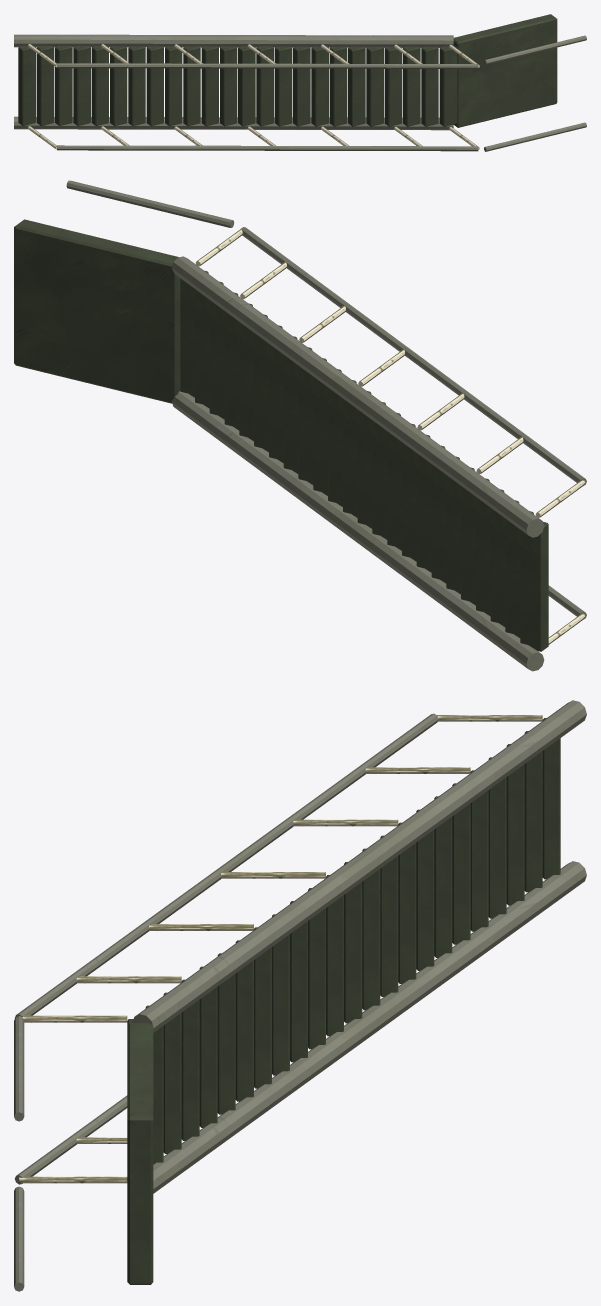
File: ECHO7_28_Escalera_Entre_Cubiertas.obj
3 views of the same model, one above another, from view 1: azimuth 30°, elevation 25°; view 2: azimuth 150°, elevation 25°; view 3: azimuth 270°, elevation 25° (orthographic). The views are drawn at different scales.
Visible parts, largest first — view 1: ECHO7_28_Escalera_Entre_Cubiertas__Descanso_superior_01, ECHO7_28_Escalera_Entre_Cubiertas__Zanca_escalera_02, ECHO7_28_Escalera_Entre_Cubiertas__Zanca_escalera_01, ECHO7_28_Escalera_Entre_Cubiertas__Pasamanos_escalera_02, ECHO7_28_Escalera_Entre_Cubiertas__Pasamanos_escalera_01, ECHO7_28_Escalera_Entre_Cubiertas__Peldano_15, ECHO7_28_Escalera_Entre_Cubiertas__Peldano_02, ECHO7_28_Escalera_Entre_Cubiertas__Peldano_01, ECHO7_28_Escalera_Entre_Cubiertas__Peldano_21, ECHO7_28_Escalera_Entre_Cubiertas__Peldano_19, ECHO7_28_Escalera_Entre_Cubiertas__Peldano_16, ECHO7_28_Escalera_Entre_Cubiertas__Peldano_12 (+19 smaller); view 2: ECHO7_28_Escalera_Entre_Cubiertas__Descanso_superior_01, ECHO7_28_Escalera_Entre_Cubiertas__Zanca_escalera_02, ECHO7_28_Escalera_Entre_Cubiertas__Zanca_escalera_01, ECHO7_28_Escalera_Entre_Cubiertas__Pasamanos_escalera_02, ECHO7_28_Escalera_Entre_Cubiertas__Peldano_01, ECHO7_28_Escalera_Entre_Cubiertas__Peldano_08, ECHO7_28_Escalera_Entre_Cubiertas__Peldano_03, ECHO7_28_Escalera_Entre_Cubiertas__Peldano_17, ECHO7_28_Escalera_Entre_Cubiertas__Peldano_11, ECHO7_28_Escalera_Entre_Cubiertas__Peldano_12, ECHO7_28_Escalera_Entre_Cubiertas__Peldano_16, ECHO7_28_Escalera_Entre_Cubiertas__Peldano_07 (+17 smaller); view 3: ECHO7_28_Escalera_Entre_Cubiertas__Zanca_escalera_02, ECHO7_28_Escalera_Entre_Cubiertas__Zanca_escalera_01, ECHO7_28_Escalera_Entre_Cubiertas__Descanso_superior_01, ECHO7_28_Escalera_Entre_Cubiertas__Pasamanos_escalera_02, ECHO7_28_Escalera_Entre_Cubiertas__Peldano_06, ECHO7_28_Escalera_Entre_Cubiertas__Peldano_07, ECHO7_28_Escalera_Entre_Cubiertas__Peldano_11, ECHO7_28_Escalera_Entre_Cubiertas__Peldano_08, ECHO7_28_Escalera_Entre_Cubiertas__Peldano_09, ECHO7_28_Escalera_Entre_Cubiertas__Peldano_12, ECHO7_28_Escalera_Entre_Cubiertas__Peldano_05, ECHO7_28_Escalera_Entre_Cubiertas__Peldano_10 (+22 smaller).
Part boxes in pixels (<box>): ECHO7_28_Escalera_Entre_Cubiertas__Descanso_superior_01: <box>453,14,557,127</box>; ECHO7_28_Escalera_Entre_Cubiertas__Zanca_escalera_02: <box>14,34,453,47</box>; ECHO7_28_Escalera_Entre_Cubiertas__Zanca_escalera_01: <box>14,116,453,130</box>; ECHO7_28_Escalera_Entre_Cubiertas__Pasamanos_escalera_02: <box>57,63,478,68</box>; ECHO7_28_Escalera_Entre_Cubiertas__Pasamanos_escalera_01: <box>57,145,478,151</box>; ECHO7_28_Escalera_Entre_Cubiertas__Peldano_15: <box>274,46,292,126</box>; ECHO7_28_Escalera_Entre_Cubiertas__Peldano_02: <box>36,46,54,125</box>; ECHO7_28_Escalera_Entre_Cubiertas__Peldano_01: <box>18,46,35,125</box>; ECHO7_28_Escalera_Entre_Cubiertas__Peldano_21: <box>384,46,402,126</box>; ECHO7_28_Escalera_Entre_Cubiertas__Peldano_19: <box>348,46,365,126</box>; ECHO7_28_Escalera_Entre_Cubiertas__Peldano_16: <box>293,46,310,126</box>; ECHO7_28_Escalera_Entre_Cubiertas__Peldano_12: <box>220,46,237,126</box>; ECHO7_28_Escalera_Entre_Cubiertas__Descanso_superior_01: <box>14,219,180,403</box>; ECHO7_28_Escalera_Entre_Cubiertas__Zanca_escalera_02: <box>172,256,544,537</box>; ECHO7_28_Escalera_Entre_Cubiertas__Zanca_escalera_01: <box>171,391,544,671</box>; ECHO7_28_Escalera_Entre_Cubiertas__Pasamanos_escalera_02: <box>241,227,586,485</box>; ECHO7_28_Escalera_Entre_Cubiertas__Peldano_01: <box>520,522,548,651</box>; ECHO7_28_Escalera_Entre_Cubiertas__Peldano_08: <box>416,445,445,572</box>; ECHO7_28_Escalera_Entre_Cubiertas__Peldano_03: <box>490,500,519,626</box>; ECHO7_28_Escalera_Entre_Cubiertas__Peldano_17: <box>283,347,312,473</box>; ECHO7_28_Escalera_Entre_Cubiertas__Peldano_11: <box>372,412,400,539</box>; ECHO7_28_Escalera_Entre_Cubiertas__Peldano_12: <box>357,402,385,528</box>; ECHO7_28_Escalera_Entre_Cubiertas__Peldano_16: <box>298,358,326,484</box>; ECHO7_28_Escalera_Entre_Cubiertas__Peldano_07: <box>431,456,459,583</box>; ECHO7_28_Escalera_Entre_Cubiertas__Zanca_escalera_02: <box>132,700,586,1032</box>; ECHO7_28_Escalera_Entre_Cubiertas__Zanca_escalera_01: <box>153,861,586,1193</box>; ECHO7_28_Escalera_Entre_Cubiertas__Descanso_superior_01: <box>127,1023,153,1284</box>; ECHO7_28_Escalera_Entre_Cubiertas__Pasamanos_escalera_02: <box>15,713,438,1017</box>; ECHO7_28_Escalera_Entre_Cubiertas__Peldano_06: <box>452,783,470,944</box>; ECHO7_28_Escalera_Entre_Cubiertas__Peldano_07: <box>434,796,452,957</box>; ECHO7_28_Escalera_Entre_Cubiertas__Peldano_11: <box>362,848,380,1010</box>; ECHO7_28_Escalera_Entre_Cubiertas__Peldano_08: <box>416,809,434,970</box>; ECHO7_28_Escalera_Entre_Cubiertas__Peldano_09: <box>398,822,416,983</box>; ECHO7_28_Escalera_Entre_Cubiertas__Peldano_12: <box>344,862,362,1023</box>; ECHO7_28_Escalera_Entre_Cubiertas__Peldano_05: <box>470,770,488,931</box>; ECHO7_28_Escalera_Entre_Cubiertas__Peldano_10: <box>380,835,398,996</box>.
Bounding box in the file's own units: 9.46 × 1.95 × 5.55.
Materials: 3 (3 with a texture image).
